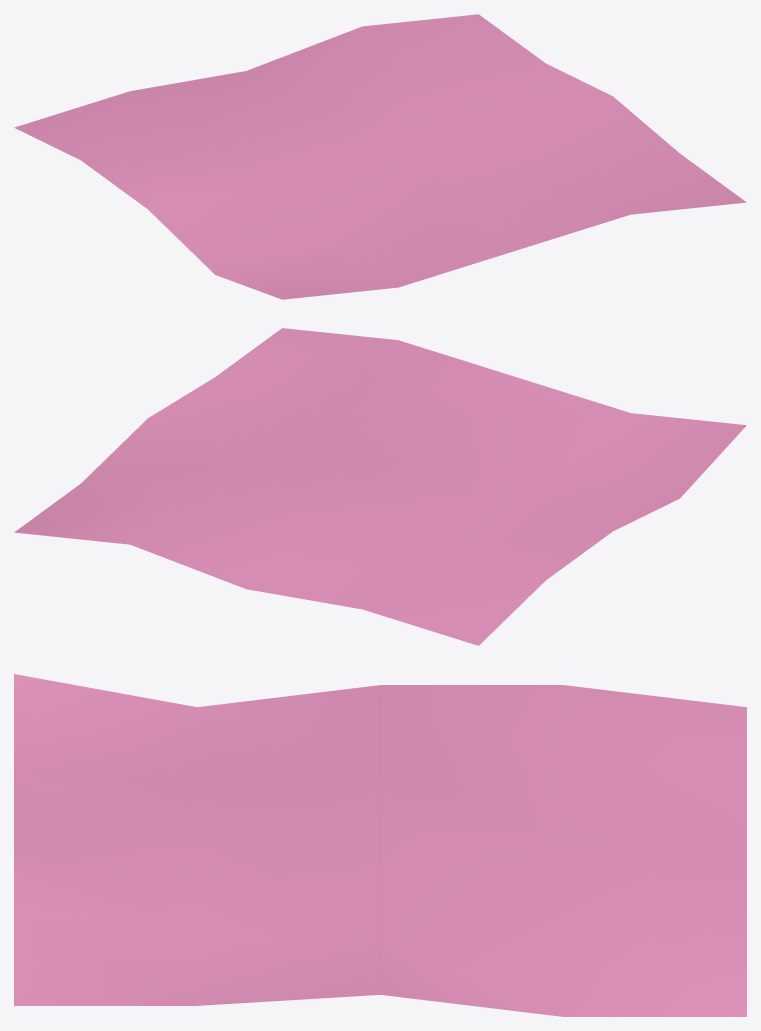
Rendered from Land.fbx.
The picture shows the model from 3 angles, top to bottom: view 1: azimuth 30°, elevation 25°; view 2: azimuth 150°, elevation 25°; view 3: azimuth 270°, elevation 25°; orthographic projection. The views are drawn at different scales.
Visible parts, largest first — view 1: Grass; view 2: Grass; view 3: Grass.
Boxes of the visible parts, x1,y1,x2,y2 form: Grass: (14,14,746,299); Grass: (14,328,746,645); Grass: (14,674,746,1016).
Bounding box in the file's own units: 2965 × 148 × 2965.
